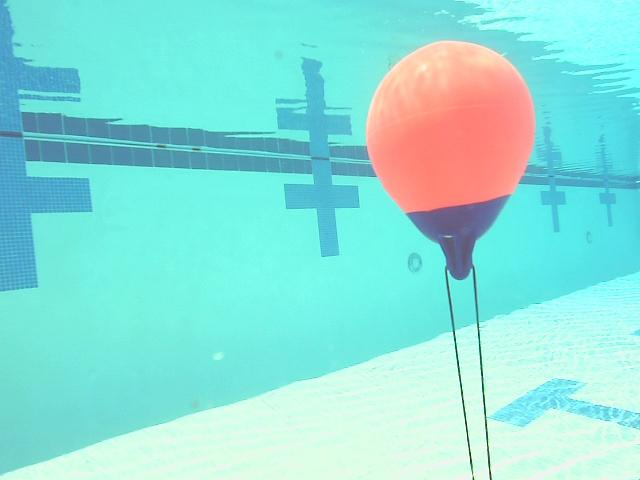buoy: (367, 40, 536, 281)
